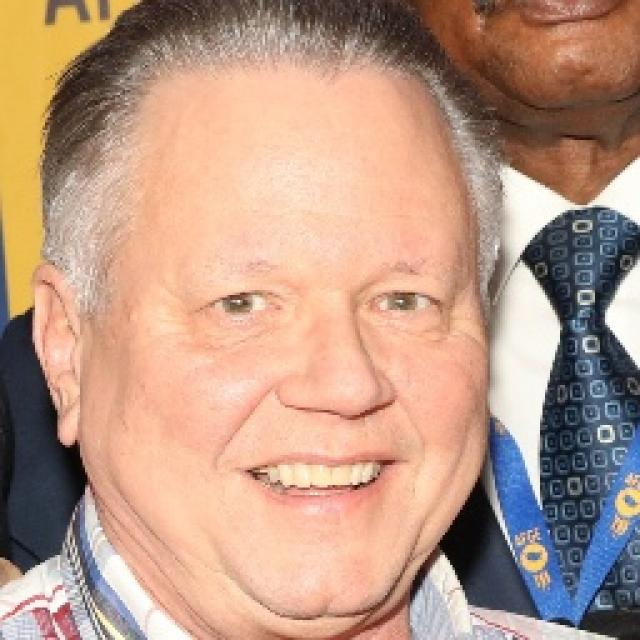earlobe: (58, 414, 81, 448)
eye: (197, 290, 283, 321), (368, 287, 436, 320)
nose: (278, 398, 392, 440)
wholeear: (27, 263, 79, 447)
